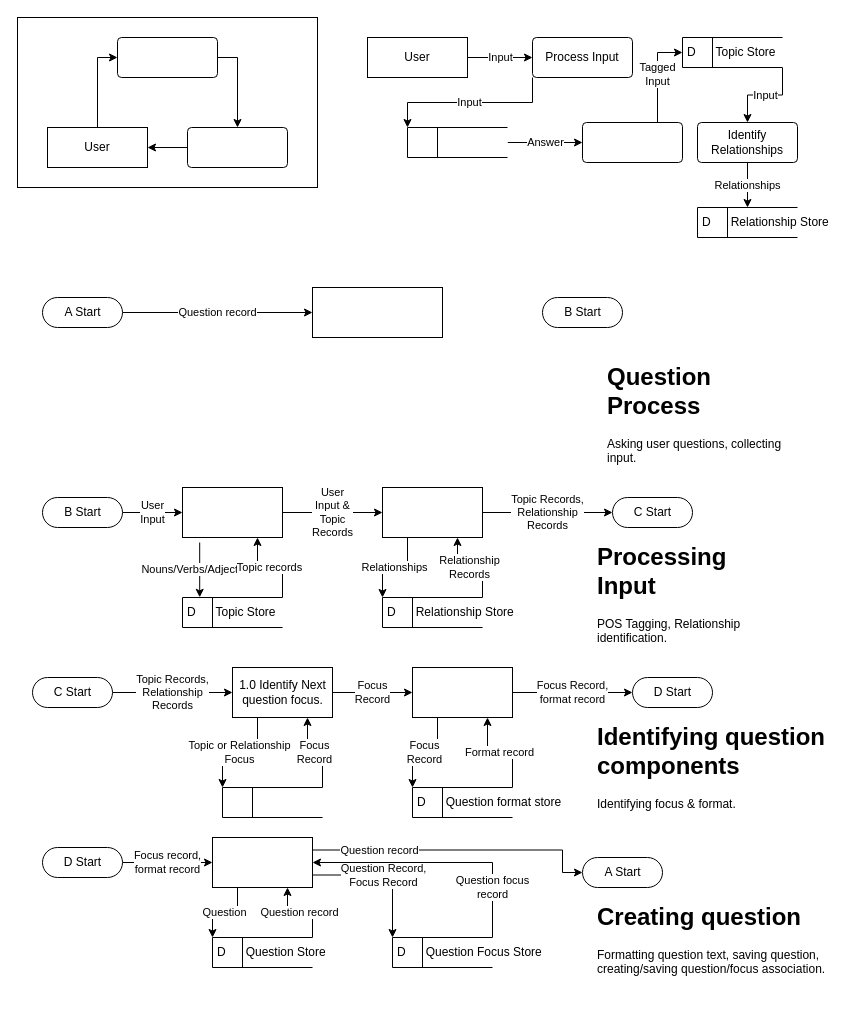
This 850x1025 diagram has some shape labels left out. Each missing label, with the centre of its shape:
"1.0 Format Question" goes at point (262, 862).
"1.0 POS Tag" goes at point (232, 512).
"1.0 Question asked" goes at point (377, 312).
"1: Input Processing System" goes at point (167, 57).
"2.0 Identify question format" goes at point (462, 692).
"2.0 Identify Relationships" goes at point (432, 512).
"2: Question Formatting System" goes at point (237, 147).
"D Answer Store" goes at point (457, 142).
"D Focus Store" goes at point (272, 802).
"Identify POS" goes at point (632, 142).
